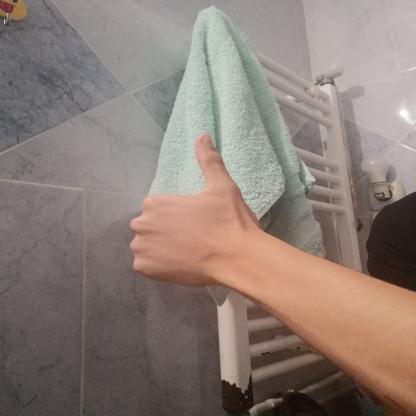ALIF: (121, 128, 270, 295)
